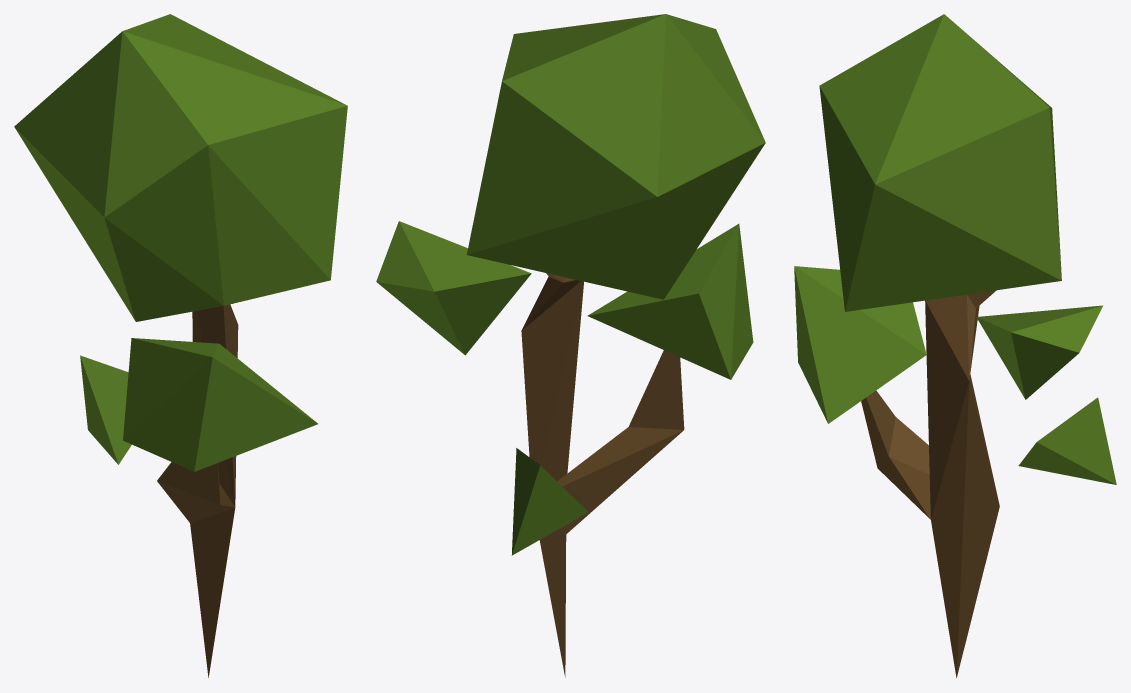
Rendered from temp-decid.moderate-op0.15.gltf.
3 views of the same model, side by side, from view 1: azimuth 30°, elevation 25°; view 2: azimuth 150°, elevation 25°; view 3: azimuth 270°, elevation 25° (orthographic). The views are drawn at different scales.
Visible parts, largest first — view 1: Tree1_2; view 2: Tree1_2; view 3: Tree1_2.
Part boxes in pixels (x1,y1,x2,y2): Tree1_2: [14, 14, 347, 677]; Tree1_2: [376, 14, 765, 677]; Tree1_2: [794, 14, 1116, 677].
Bounding box in the file's own units: 2.65 × 5.98 × 2.81.
1 material, 1 textured.
